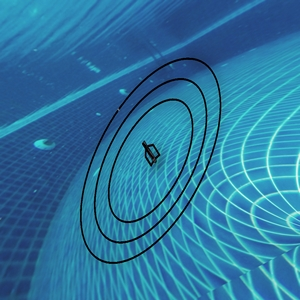circle: (52, 47, 249, 283)
submarine: (141, 144, 161, 163)
